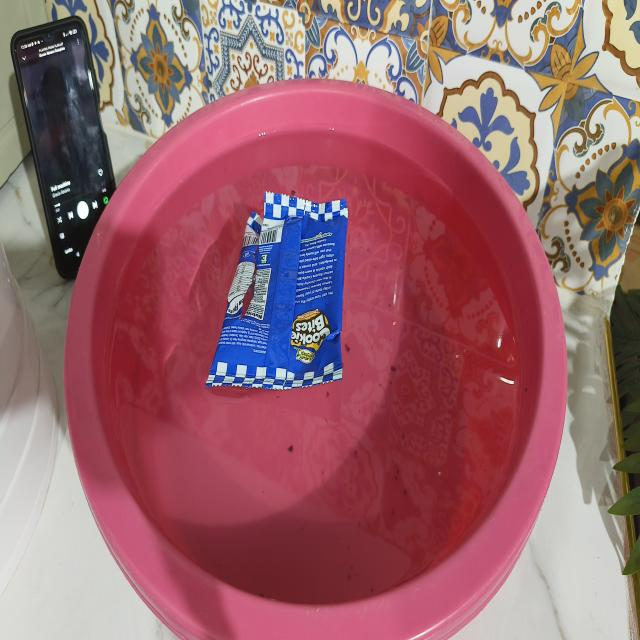Plastic Wrapper: (206, 192, 348, 389), (314, 309, 321, 318)
